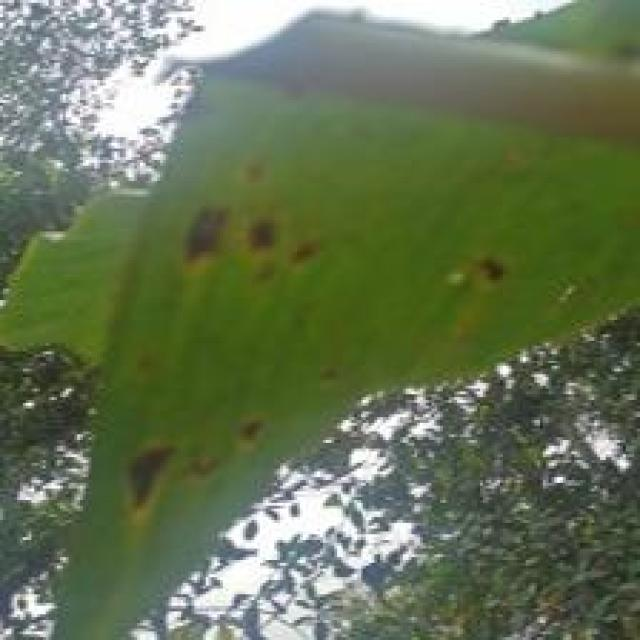Downey_mildrew: (184, 108, 554, 340), (120, 388, 349, 544)
